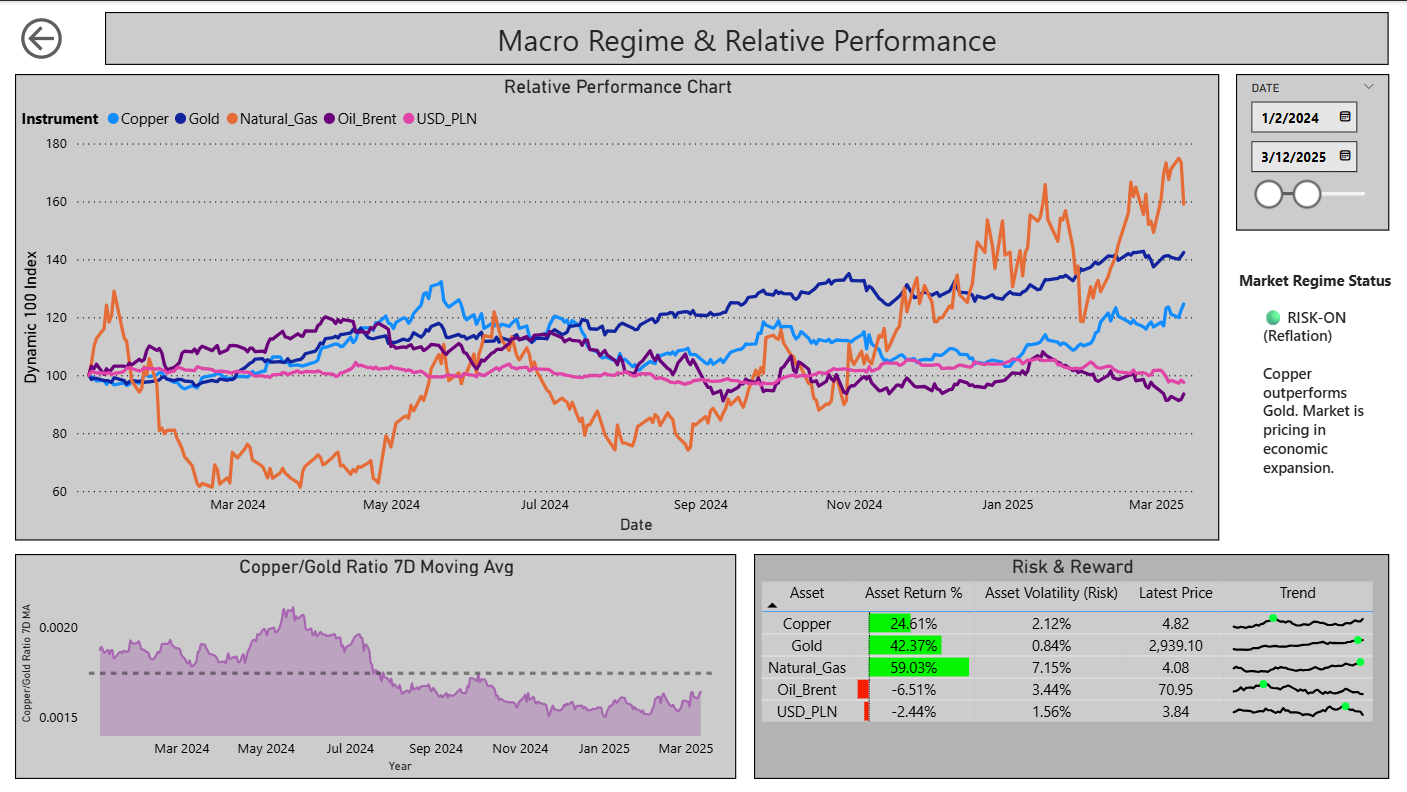

The page's visual inventory and layout, read from the dashboard file:
{"tool":"powerbi","page":{"name":"Macro Regime & Relative Performance","canvas":[1280,720],"ordinal":1},"visuals":[{"type":"areaChart","title":"Copper/Gold Ratio 7D Moving Avg","fields":{"Y":["_Measures.CopperGold_Ratio_7D_MA"],"Category":["DATE_TABLE.Date.Variation.Date Hierarchy.Year","DATE_TABLE.Date.Variation.Date Hierarchy.Quarter","DATE_TABLE.Date.Variation.Date Hierarchy.Month","DATE_TABLE.Date.Variation.Date Hierarchy.Day"]},"box":[15.4,501.5,653.8,204],"z":0},{"type":"slicer","fields":{"Values":["DATE_TABLE.Date"]},"box":[1122.6,66.2,138.7,142.4],"z":1000},{"type":"lineChart","title":"Relative Performance Chart","fields":{"Category":["financial_data_long.Date"],"Y":["_Measures.Index_100_Dynamic"],"Series":["financial_data_long.Instrument"]},"box":[15.4,66.2,1091.8,422.6],"z":2000},{"type":"tableEx","title":"Risk & Reward","fields":{"Values":["financial_data_long.Instrument","_Measures.Asset_Return_Period","_Measures.Asset_Volatility_CV","_Measures.Price_Latest","SparklineData(Sum(financial_data_long.Price)_[DATE_TABLE.Date])"]},"box":[685.5,501.5,575.8,204],"z":3000},{"type":"textbox","box":[97,10,1164.3,48.1],"z":4000},{"type":"cardVisual","fields":{"Data":["_Measures.Macro_Regime_Indicator"]},"box":[1117.9,217.7,162.1,271],"z":5000},{"type":"textbox","box":[1122.6,239.4,152.3,38.1],"z":6000},{"type":"actionButton","box":[15.4,10,81.6,48.1],"z":7000}]}

Visuals, with their boxes in screenshot pixels (x1, y1, x2, y2), scaled from the page's 1280x720 canvas onto the 1407x792 screenshot:
"Copper/Gold Ratio 7D Moving Avg" areaChart: <region>17, 552, 736, 776</region>
slicer - DATE_TABLE.Date: <region>1234, 73, 1386, 229</region>
"Relative Performance Chart" lineChart: <region>17, 73, 1217, 538</region>
"Risk & Reward" tableEx: <region>754, 552, 1386, 776</region>
textbox: <region>107, 11, 1386, 64</region>
cardVisual - _Measures.Macro_Regime_Indicator: <region>1229, 239, 1406, 538</region>
textbox: <region>1234, 263, 1401, 305</region>
actionButton: <region>17, 11, 107, 64</region>
